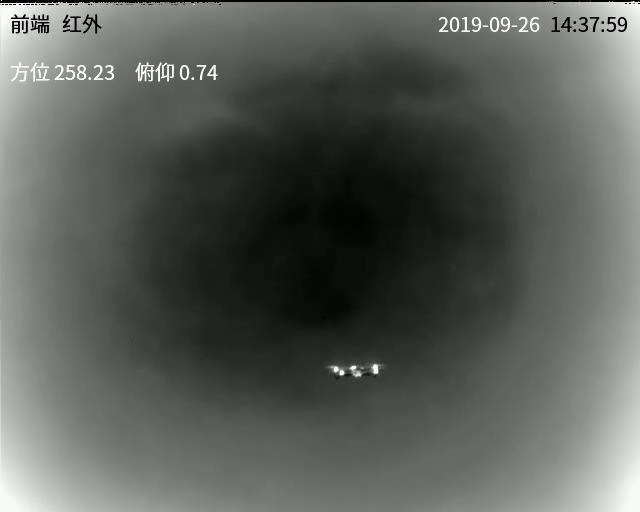uav: (325, 357, 382, 381)
